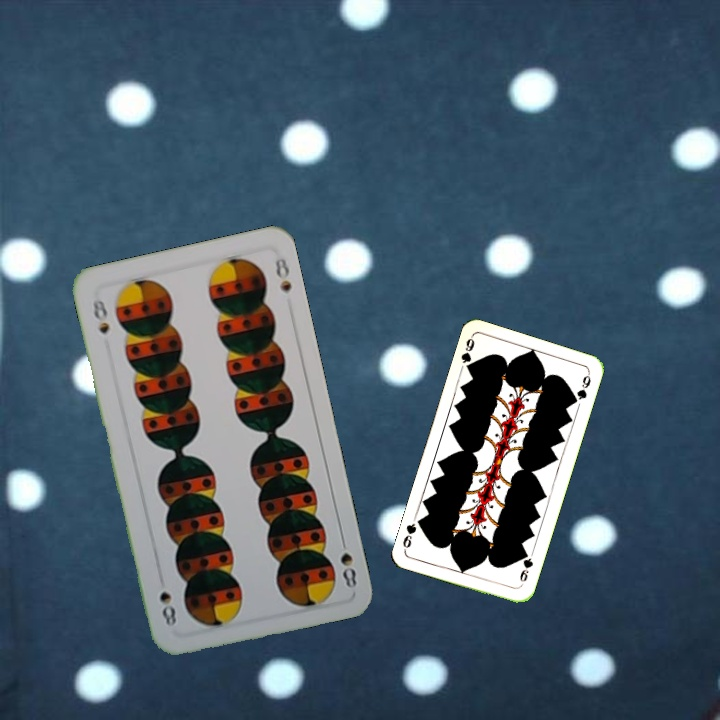G9: (457, 333, 477, 374), (516, 548, 536, 584)
S8: (336, 532, 359, 591), (89, 296, 112, 336)
